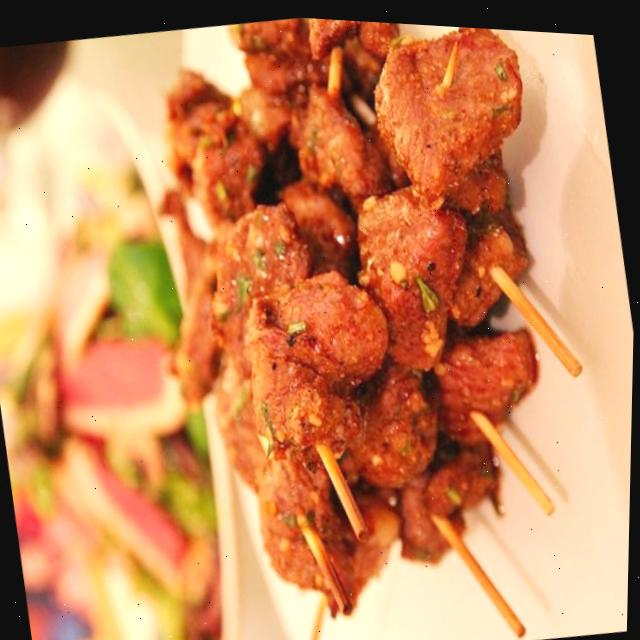烧串烤肉: (89, 5, 640, 640)
